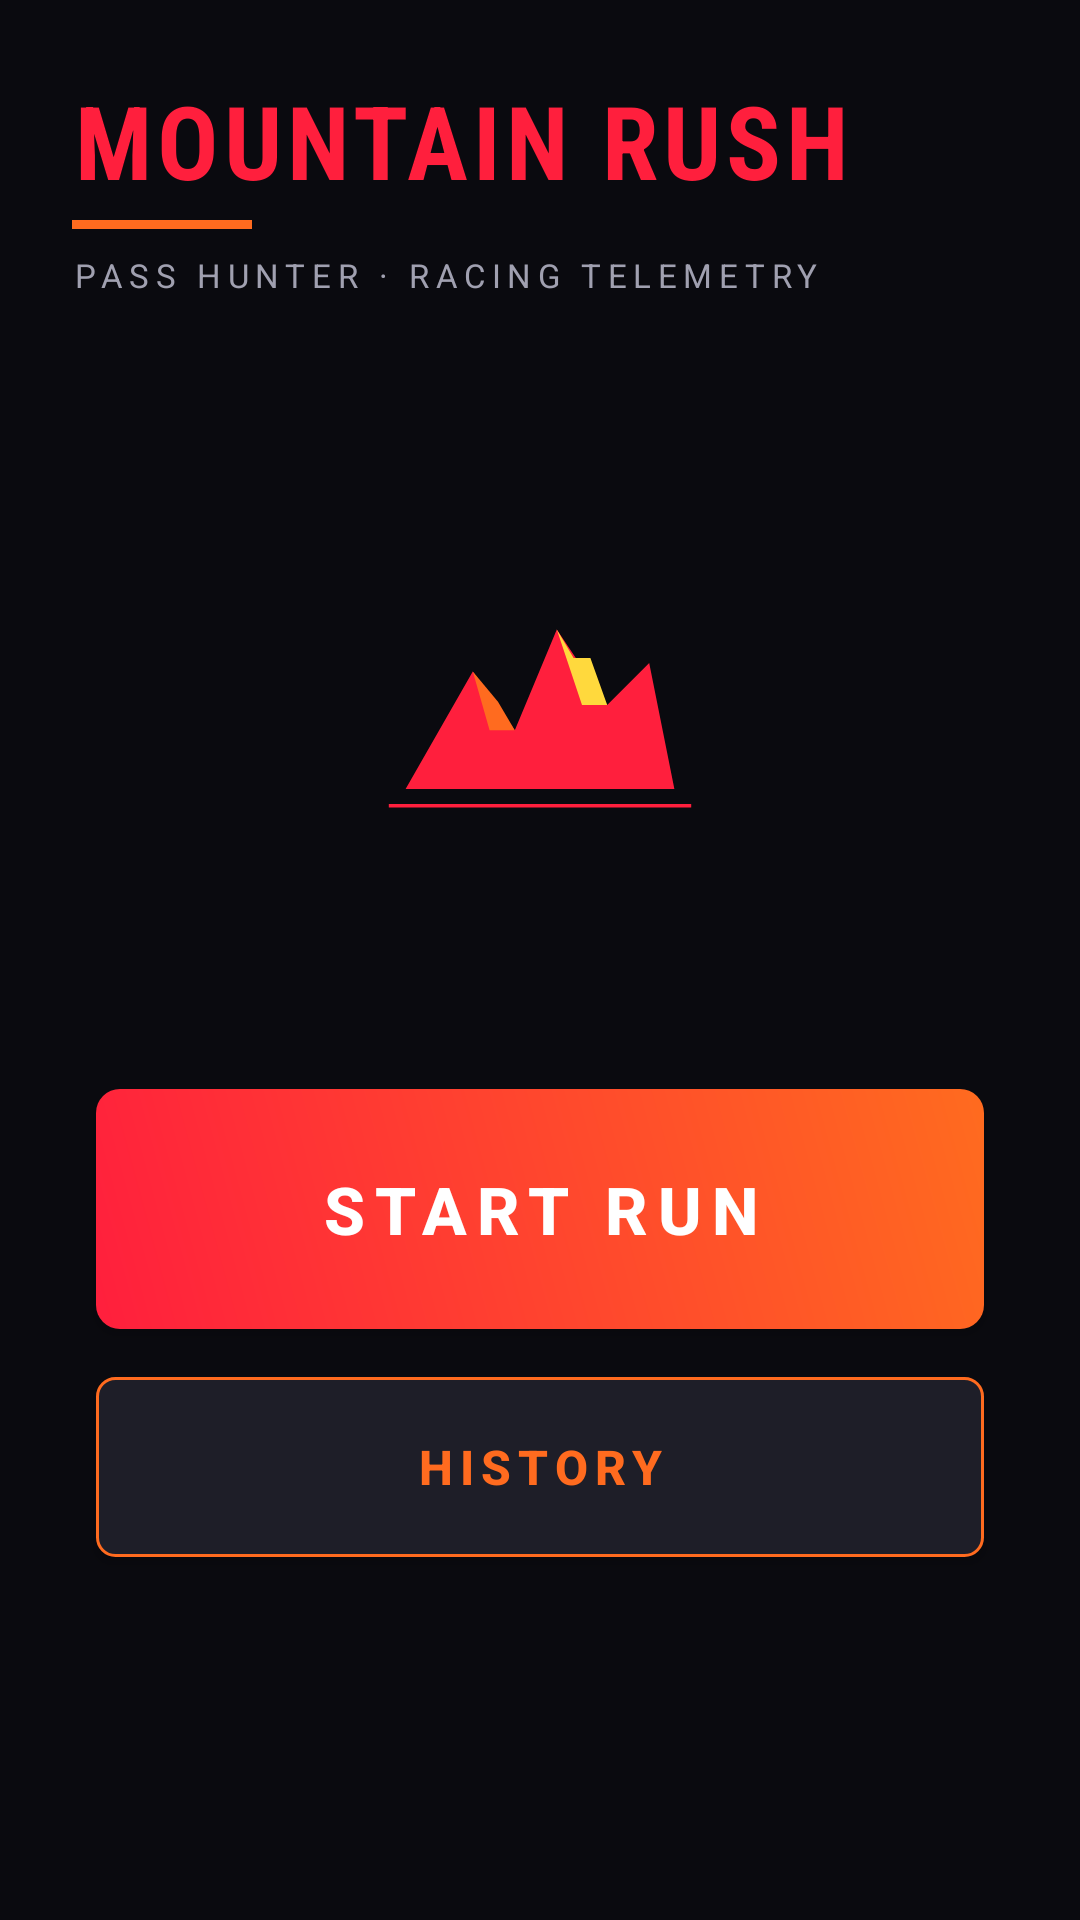

Icon bounding boxes for this 1080px×1920px phone screenshot, format {"left": x1, "top": y1, "right": x2, "bottom": y2}:
mountain hero: {"left": 388, "top": 629, "right": 692, "bottom": 808}
